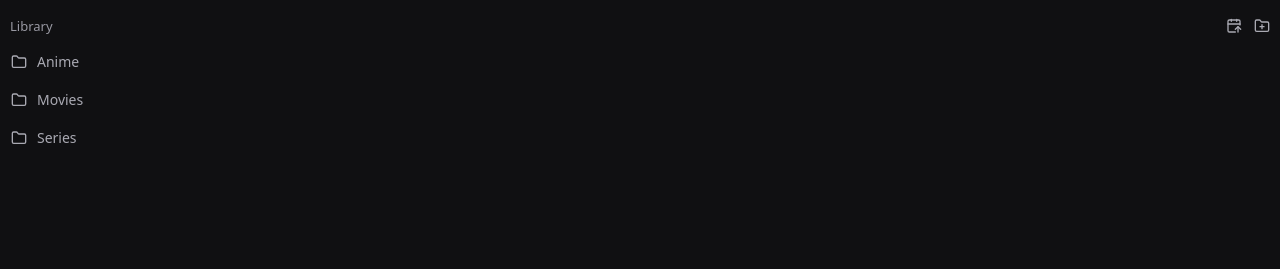
Test: library folder sort menu › shows the saved mode oldestFirst as Date added, oldest first
The width and height of the screenshot is (1280, 269).
Click the button named "Sort folders: Date added, oldest first": (1234, 26) [1220,12,1248,40]
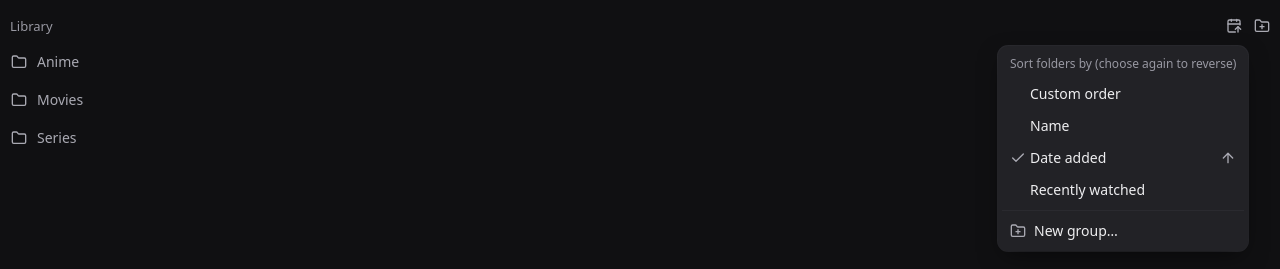
Expected: the menu shows "Sort folders by (choose again to reverse)", [1010,55,1236,72]
